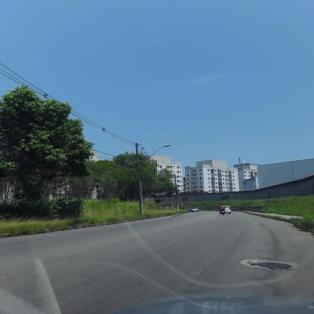Poste: (134, 142, 145, 214)
